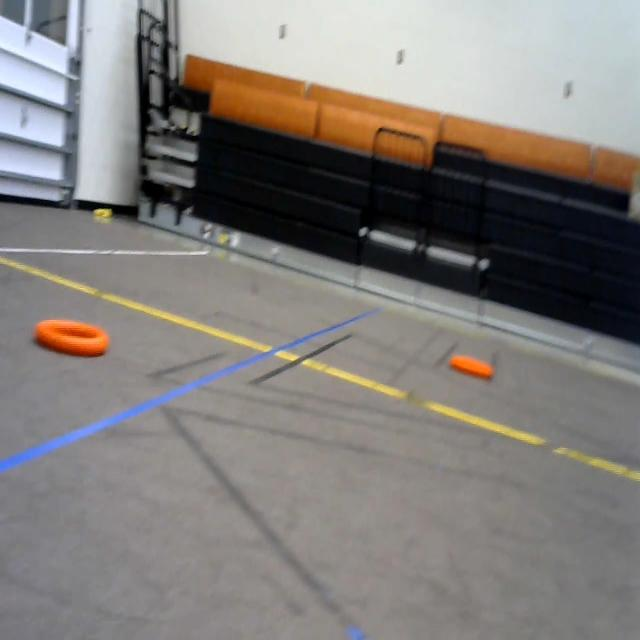note: (29, 317, 111, 359), (447, 353, 496, 382)
